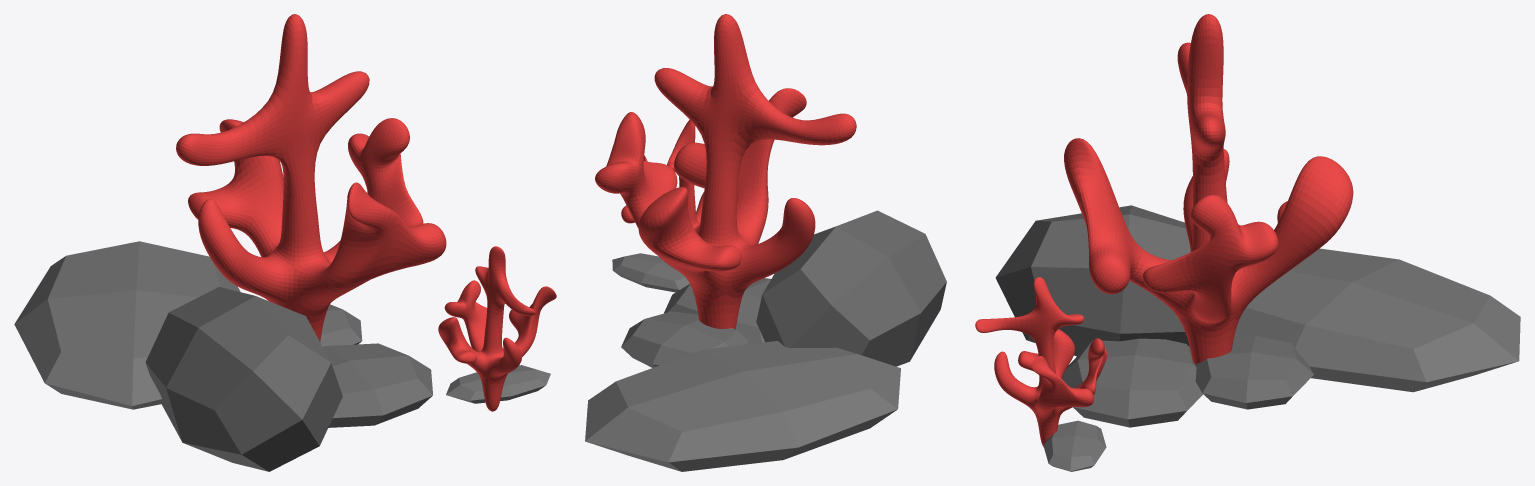
The model's file is Corals1.fbx.
3 renders of one model, left to right at view 1: azimuth 30°, elevation 25°; view 2: azimuth 150°, elevation 25°; view 3: azimuth 270°, elevation 25°, orthographic. The views are drawn at different scales.
Parts seen in each view (by area): view 1: Cube, Cube.006, Cube.002, Cube.001, Cube.003, Cube.005, Cube.004; view 2: Cube, Cube.002, Cube.006, Cube.004, Cube.003, Cube.005, Cube.001; view 3: Cube, Cube.002, Cube.006, Cube.003, Cube.001, Cube.004, Cube.005.
Boxes of the visible parts, <box> form: Cube: <box>176,14,446,341</box>; Cube.006: <box>145,287,342,471</box>; Cube.002: <box>14,241,240,409</box>; Cube.001: <box>438,246,556,411</box>; Cube.003: <box>323,343,432,427</box>; Cube.005: <box>446,365,550,403</box>; Cube.004: <box>320,304,362,346</box>; Cube: <box>595,14,856,329</box>; Cube.002: <box>585,341,900,471</box>; Cube.006: <box>756,210,946,366</box>; Cube.004: <box>621,311,748,367</box>; Cube.003: <box>664,278,770,344</box>; Cube.005: <box>612,253,689,292</box>; Cube.001: <box>621,119,703,234</box>; Cube: <box>1064,14,1353,364</box>; Cube.002: <box>1234,248,1520,392</box>; Cube.006: <box>995,205,1190,356</box>; Cube.003: <box>1061,338,1203,427</box>; Cube.001: <box>975,277,1106,446</box>; Cube.004: <box>1195,335,1313,409</box>; Cube.005: <box>1043,420,1106,471</box>.
Bounding box in the file's own units: 321 × 296 × 367.
